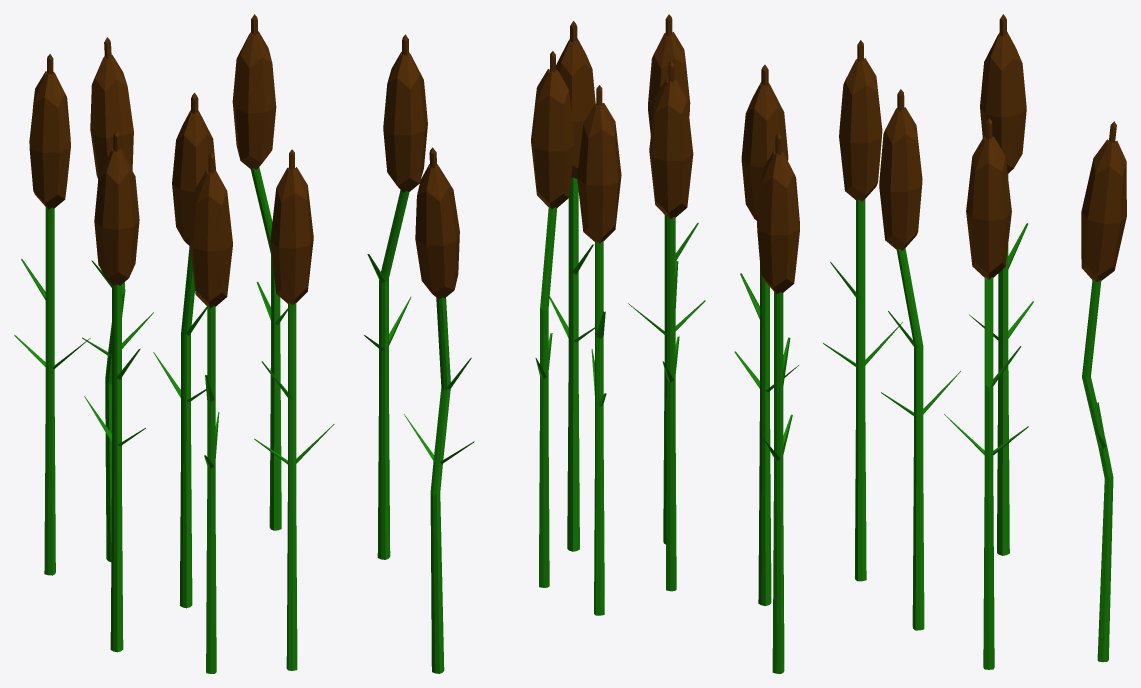
The model's file is mnogo kamish.fbx.
3 renders of one model, left to right at view 1: azimuth 30°, elevation 25°; view 2: azimuth 150°, elevation 25°; view 3: azimuth 270°, elevation 25°, orthographic. The views are drawn at different scales.
Visible parts, largest first — view 1: mnogo kamish; view 2: mnogo kamish; view 3: mnogo kamish.
Part boxes in pixels (x1=…): mnogo kamish: x1=14, y1=14, x2=334, y2=673; mnogo kamish: x1=364, y1=14, x2=705, y2=673; mnogo kamish: x1=734, y1=14, x2=1126, y2=673.
Bounding box in the file's own units: 2129 × 4720 × 2849.
